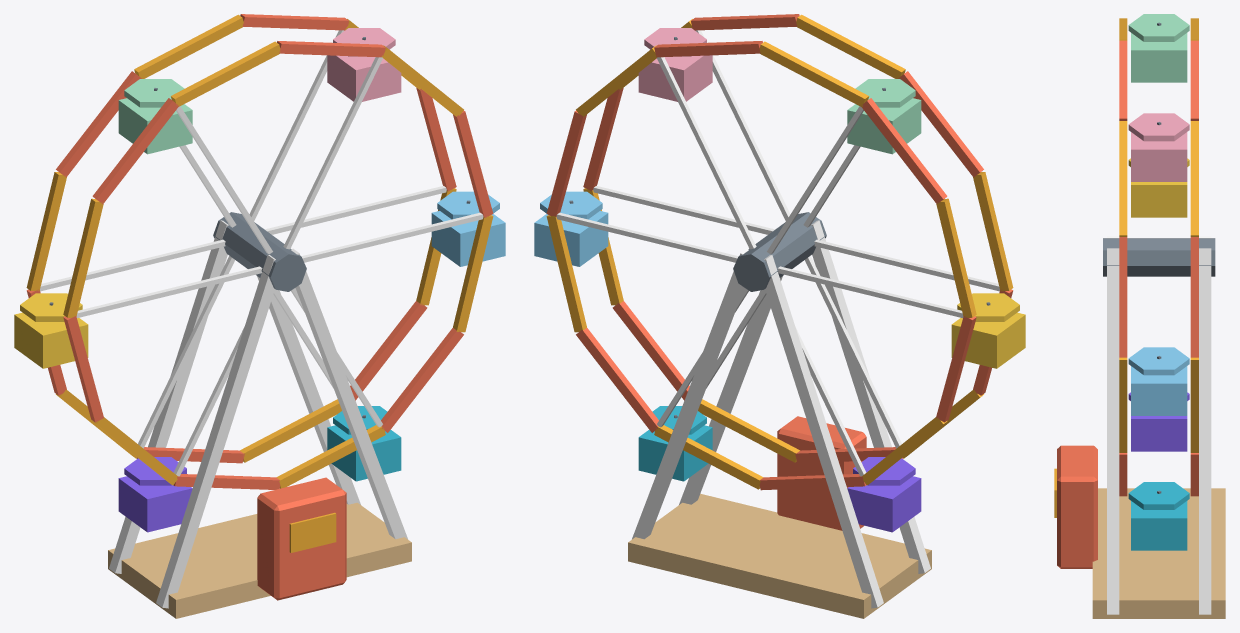
Rendered from station_ferris_wheel.glb.
3 renders of one model, left to right at view 1: azimuth 30°, elevation 25°; view 2: azimuth 150°, elevation 25°; view 3: azimuth 270°, elevation 25°, orthographic. The views are drawn at different scales.
Visible parts, largest first — view 1: station_ferris_wheel_wheel, station_ferris_wheel, station_ferris_wheel_gondola_4, station_ferris_wheel_gondola_3, station_ferris_wheel_gondola_2, station_ferris_wheel_gondola_1, station_ferris_wheel_gondola_0, station_ferris_wheel_gondola_5; view 2: station_ferris_wheel_wheel, station_ferris_wheel, station_ferris_wheel_gondola_4, station_ferris_wheel_gondola_3, station_ferris_wheel_gondola_2, station_ferris_wheel_gondola_1, station_ferris_wheel_gondola_0, station_ferris_wheel_gondola_5; view 3: station_ferris_wheel, station_ferris_wheel_wheel, station_ferris_wheel_gondola_2, station_ferris_wheel_gondola_5, station_ferris_wheel_gondola_1, station_ferris_wheel_gondola_0, station_ferris_wheel_gondola_3, station_ferris_wheel_gondola_4.
Part boxes in pixels (x1,y1,x2,y2): station_ferris_wheel_wheel: (26, 14, 493, 489); station_ferris_wheel: (108, 220, 411, 618); station_ferris_wheel_gondola_4: (118, 457, 192, 532); station_ferris_wheel_gondola_3: (14, 293, 88, 368); station_ferris_wheel_gondola_2: (118, 79, 192, 154); station_ferris_wheel_gondola_1: (327, 28, 401, 101); station_ferris_wheel_gondola_0: (431, 191, 505, 266); station_ferris_wheel_gondola_5: (327, 406, 401, 481); station_ferris_wheel_wheel: (546, 14, 1013, 490); station_ferris_wheel: (628, 220, 931, 618); station_ferris_wheel_gondola_4: (847, 457, 921, 532); station_ferris_wheel_gondola_3: (951, 293, 1025, 368); station_ferris_wheel_gondola_2: (847, 79, 921, 154); station_ferris_wheel_gondola_1: (638, 28, 712, 101); station_ferris_wheel_gondola_0: (534, 191, 608, 266); station_ferris_wheel_gondola_5: (638, 406, 712, 481); station_ferris_wheel: (1054, 236, 1225, 618); station_ferris_wheel_wheel: (1103, 18, 1215, 496); station_ferris_wheel_gondola_2: (1128, 14, 1189, 82); station_ferris_wheel_gondola_5: (1128, 482, 1189, 550); station_ferris_wheel_gondola_1: (1128, 113, 1189, 181); station_ferris_wheel_gondola_0: (1128, 347, 1189, 415); station_ferris_wheel_gondola_3: (1128, 158, 1189, 217); station_ferris_wheel_gondola_4: (1128, 392, 1189, 451).
Bounding box in the file's own units: 5.12 × 5.65 × 1.68.
